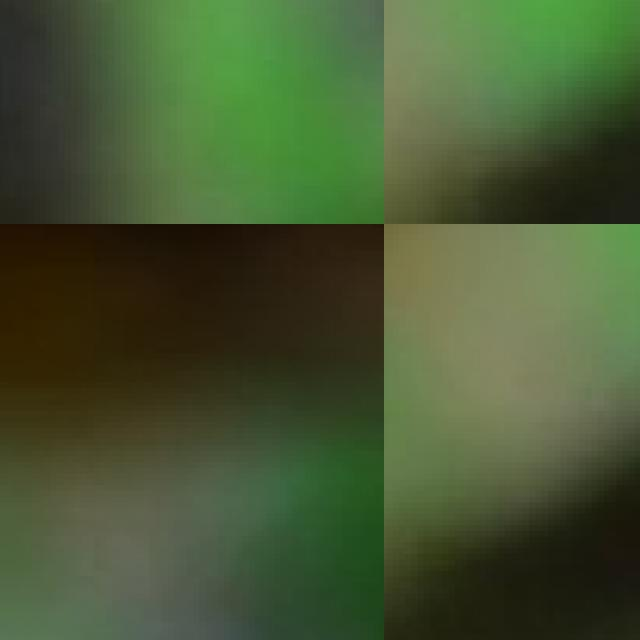fish: (0, 0, 384, 224), (384, 0, 640, 224)
